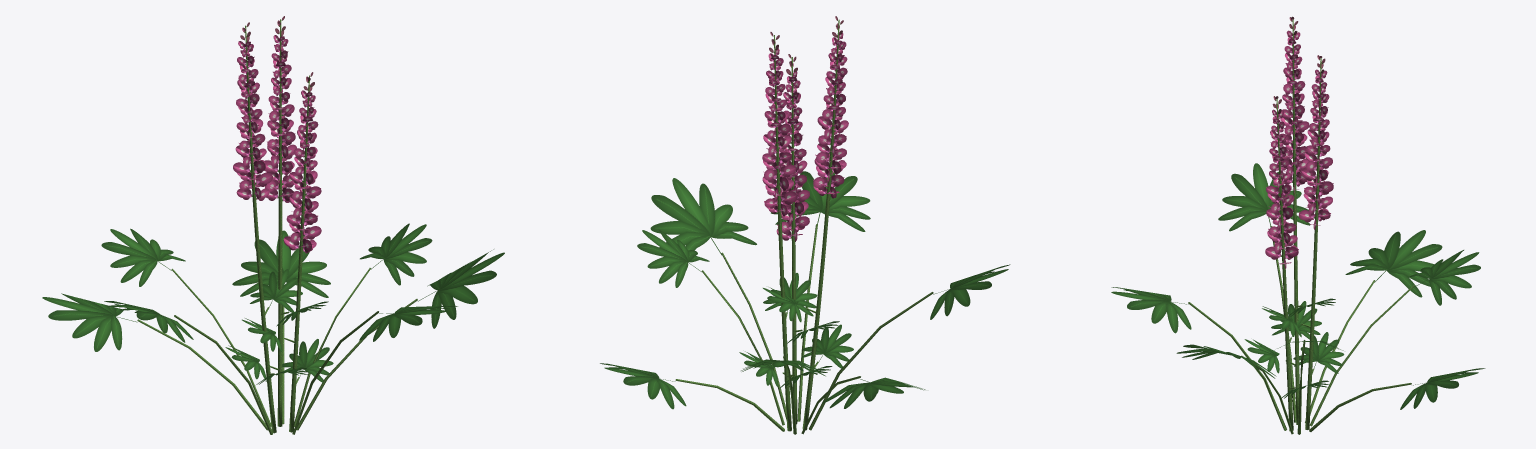
Rendered from lupine_v03_LOD1.fbx.
3 renders of one model, left to right at view 1: azimuth 30°, elevation 25°; view 2: azimuth 150°, elevation 25°; view 3: azimuth 270°, elevation 25°, orthographic. The views are drawn at different scales.
Parts seen in each view (by area): view 1: lupine_v03_LOD1; view 2: lupine_v03_LOD1; view 3: lupine_v03_LOD1.
Part boxes in pixels (<box>): lupine_v03_LOD1: <box>42,16,504,434</box>; lupine_v03_LOD1: <box>600,16,1010,434</box>; lupine_v03_LOD1: <box>1111,16,1485,434</box>.
Size of the model in its own units: 105 by 99.49 by 97.28.
3 materials, 3 textured.
